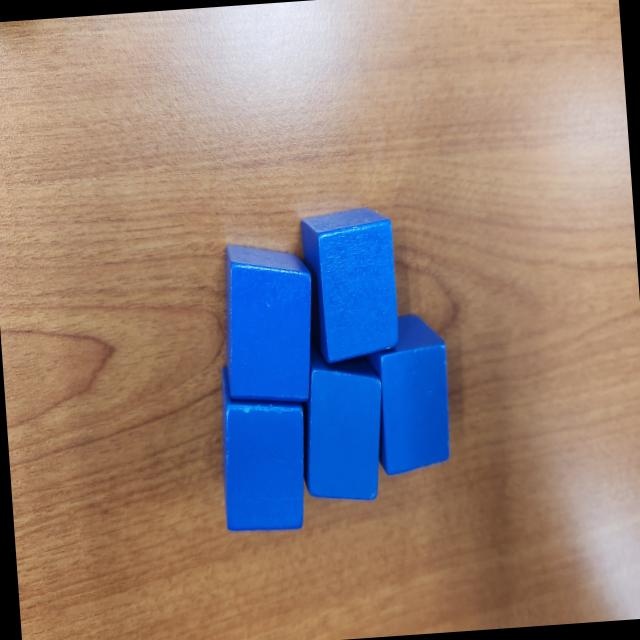blue: (216, 238, 320, 406), (215, 358, 312, 536), (298, 202, 401, 368), (364, 308, 455, 478), (296, 340, 389, 506)
